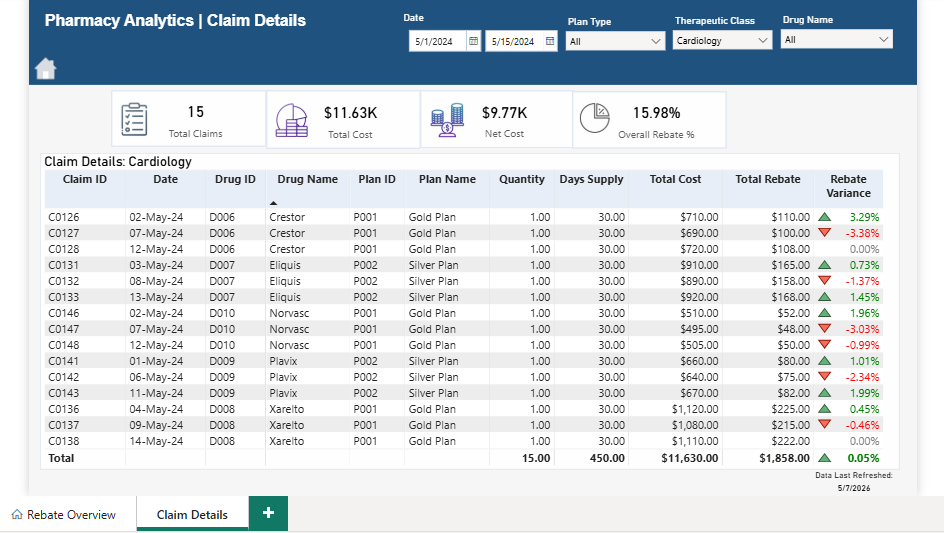

What the dashboard file says about the page in this screenshot:
{"tool":"powerbi","page":{"name":"Claim Details","canvas":[1280,720],"ordinal":2},"visuals":[{"type":"card","title":"Data Last Refreshed:","fields":{"Values":["Min(RefreshDate.RefreshDate)"]},"box":[1094.4,682.6,159.8,37.4],"z":0},{"type":"tableEx","fields":{"Values":["Claims.Claim_ID","Claims.Date","Claims.Drug_ID","Drugs.Drug_Name","Claims.Plan_ID","Plans.Plan_Name","Sum(Claims.Quantity)","Sum(Claims.Days_Supply)","Claims.Total Cost","Claims.Total Rebate","Claims.Rebate Variance %","select"]},"box":[15.8,187.2,1238.4,495.4],"z":1000},{"type":"shape","box":[0,0,1280.2,128.2],"z":2000},{"type":"image","box":[53.3,82.1,47.5,41.8],"z":3000},{"type":"slicer","fields":{"Values":["Drugs.Drug_Name"]},"box":[1073.2,20.2,181.1,57.6],"z":4000},{"type":"slicer","fields":{"Values":["Drugs.Therapeutic_Class"]},"box":[917.3,21.6,162.7,59],"z":5000},{"type":"slicer","fields":{"Values":["Plans.Plan_Type"]},"box":[763.2,23,162.7,60.5],"z":6000},{"type":"slicer","title":"Date","fields":{"Values":["Claims.Date"]},"box":[534.2,23,234.7,60.5],"z":7000},{"type":"actionButton","box":[15.8,146.9,1238.4,33.1],"z":8000},{"type":"image","box":[13,89.3,38.9,30.2],"z":9000},{"type":"group","id":"g1","title":"Group 13","box":[104.3,83.7,153,40.4],"z":10000},{"type":"actionButton","box":[104.3,83.7,152.8,38.9],"z":17000,"group":"g1"},{"type":"actionButton","box":[104.3,85.1,153,39],"z":18000,"group":"g1"}]}

Visuals, with their boxes in screenshot pixels (x1, y1, x2, y2), scaled from the page's 1280x720 canvas onto the 944x533 screenshot:
"Data Last Refreshed:" card: <bbox>807, 505, 925, 532</bbox>
tableEx - Claims.Claim_ID x Claims.Date: <bbox>12, 139, 925, 505</bbox>
shape: <bbox>0, 0, 943, 95</bbox>
image: <bbox>39, 61, 74, 92</bbox>
slicer - Drugs.Drug_Name: <bbox>791, 15, 925, 58</bbox>
slicer - Drugs.Therapeutic_Class: <bbox>677, 16, 796, 60</bbox>
slicer - Plans.Plan_Type: <bbox>563, 17, 683, 62</bbox>
"Date" slicer: <bbox>394, 17, 567, 62</bbox>
actionButton: <bbox>12, 109, 925, 133</bbox>
image: <bbox>10, 66, 38, 88</bbox>
"Group 13" group: <bbox>77, 62, 190, 92</bbox>
actionButton: <bbox>77, 62, 190, 91</bbox>
actionButton: <bbox>77, 63, 190, 92</bbox>
